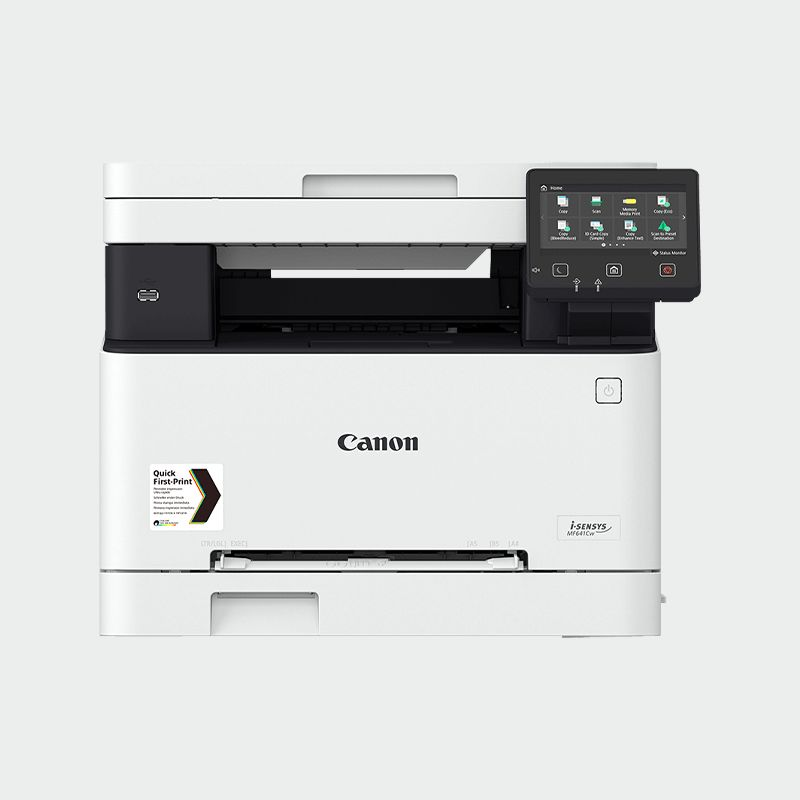printer: (87, 144, 704, 647)
